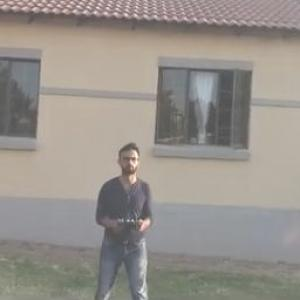follow: (86, 136, 157, 299)
